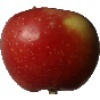apple: (1, 7, 99, 93)
